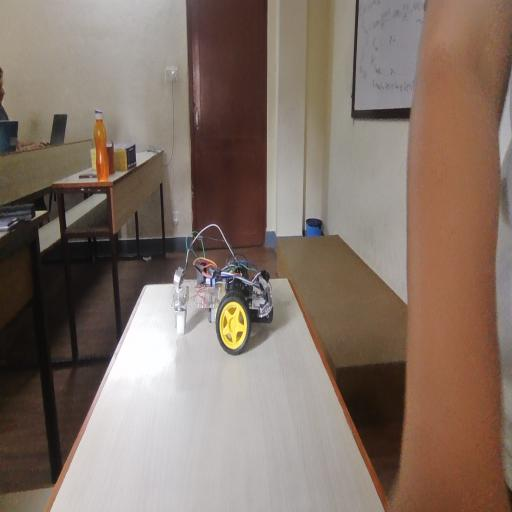Bottle: (92, 107, 122, 176)
car: (173, 233, 266, 352)
